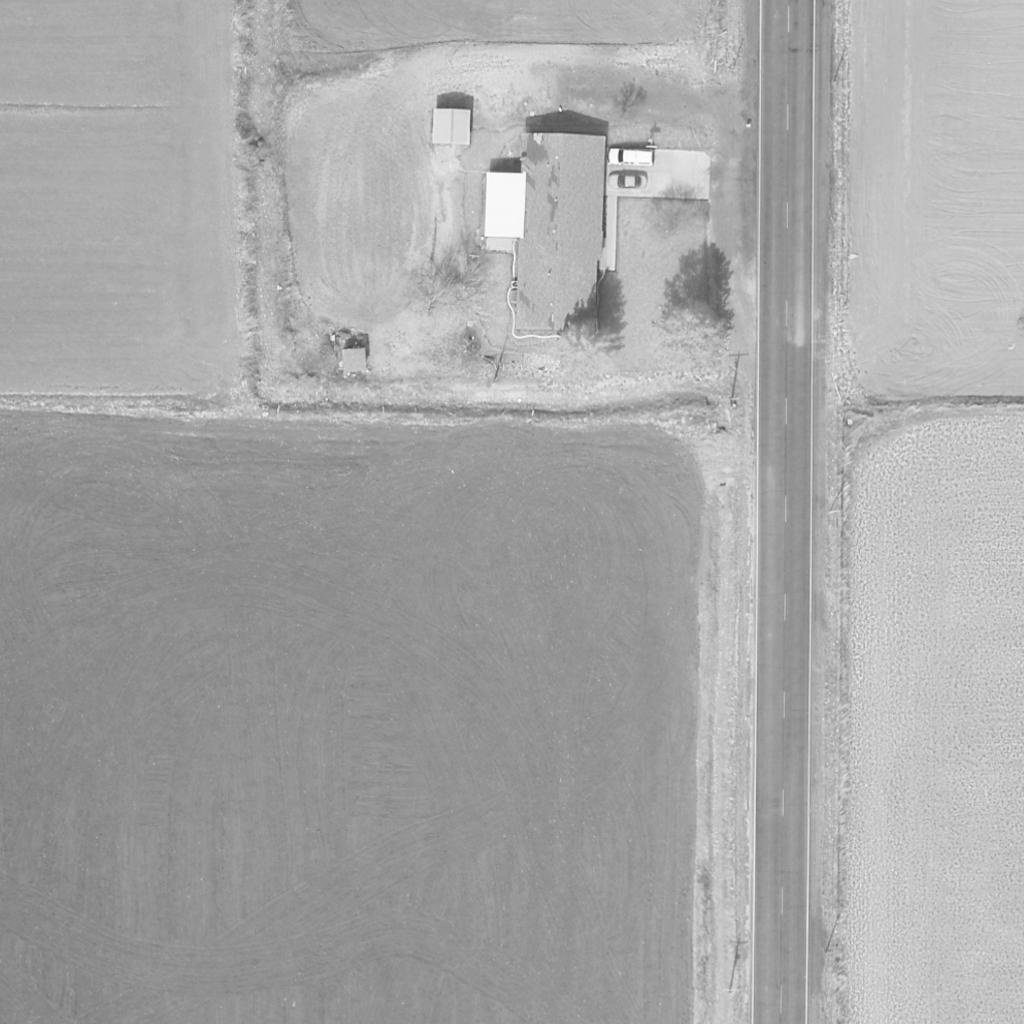vehicle: (608, 148, 656, 166), (606, 174, 650, 190)
